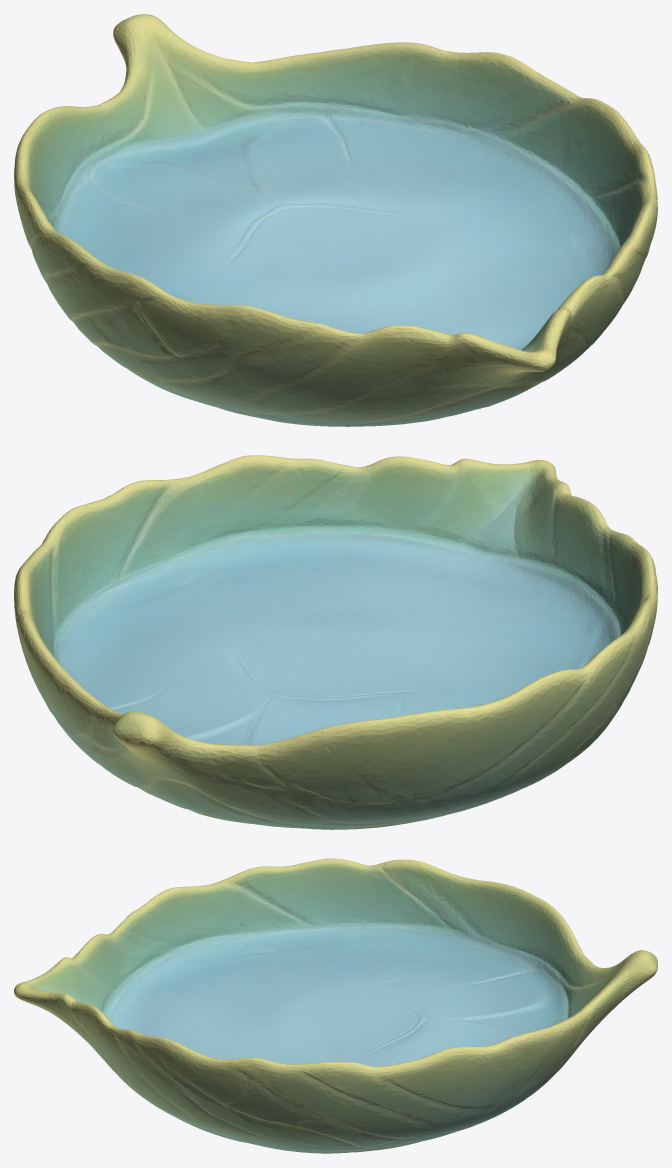
Rendered from bowl_water_7.glb.
3 views of the same model, one above another, from view 1: azimuth 30°, elevation 25°; view 2: azimuth 150°, elevation 25°; view 3: azimuth 270°, elevation 25° (orthographic). The views are drawn at different scales.
Parts seen in each view (by area): view 1: tripo_node_6a569939-931c-407a-918a-8e166b41e3ab; view 2: tripo_node_6a569939-931c-407a-918a-8e166b41e3ab; view 3: tripo_node_6a569939-931c-407a-918a-8e166b41e3ab.
Part boxes in pixels (x1,y1,x2,y2): tripo_node_6a569939-931c-407a-918a-8e166b41e3ab: [14, 14, 657, 426]; tripo_node_6a569939-931c-407a-918a-8e166b41e3ab: [14, 455, 657, 829]; tripo_node_6a569939-931c-407a-918a-8e166b41e3ab: [14, 858, 657, 1153].
Size of the model in its own units: 0.7647 by 0.2382 by 0.9996.
Materials: 1 (1 with a texture image).
